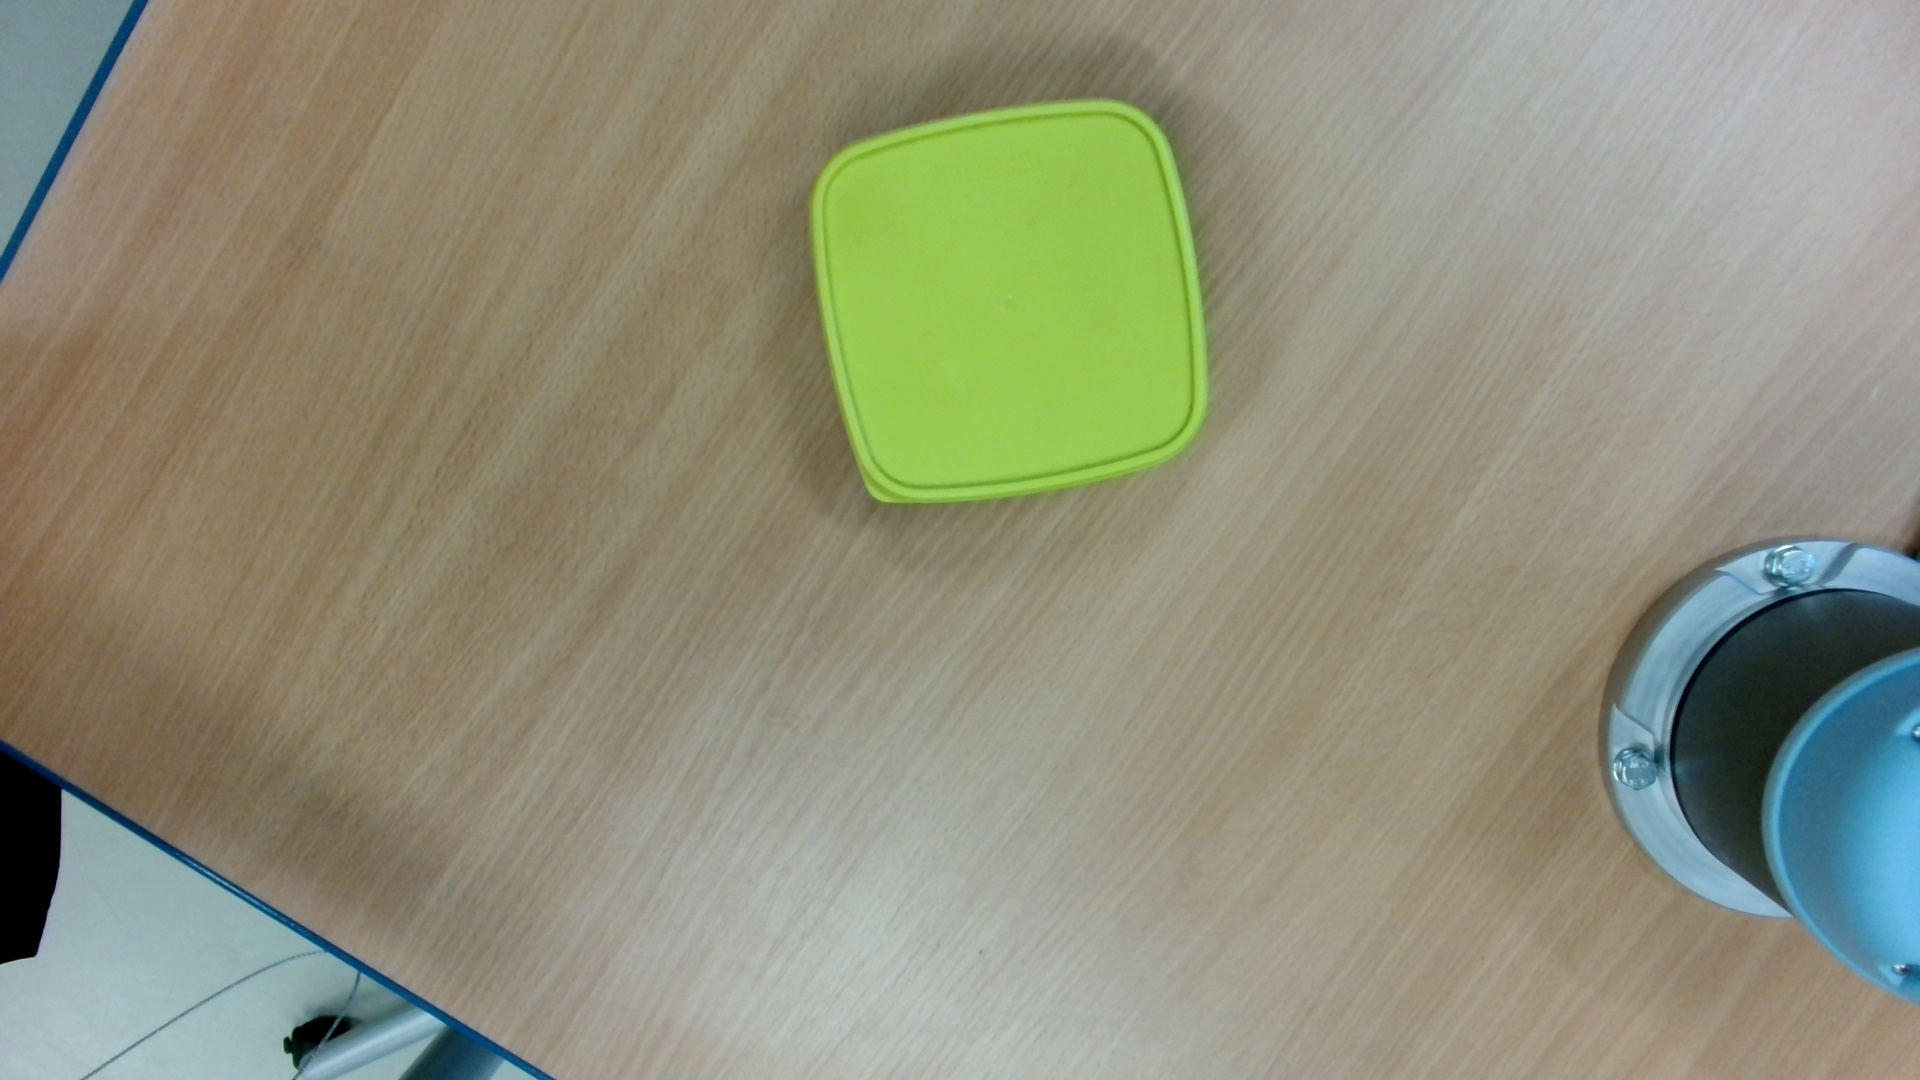Box: (800, 94, 1221, 512)
